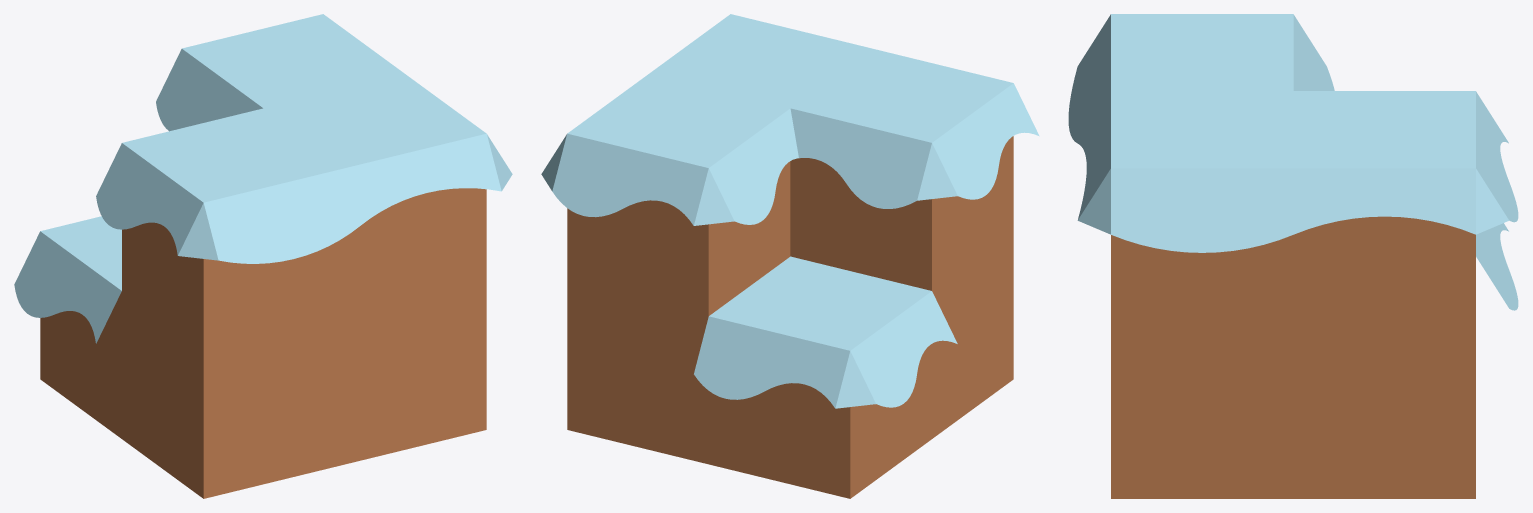
The model's file is blockSnowLevel.dae.
3 views of the same model, side by side, from view 1: azimuth 30°, elevation 25°; view 2: azimuth 150°, elevation 25°; view 3: azimuth 270°, elevation 25° (orthographic). The views are drawn at different scales.
Parts seen in each view (by area): view 1: blockSnowLevel; view 2: blockSnowLevel; view 3: blockSnowLevel.
Part boxes in pixels (left/top/right/bottom): blockSnowLevel: left=14, top=14, right=512, bottom=498; blockSnowLevel: left=541, top=14, right=1039, bottom=498; blockSnowLevel: left=1068, top=14, right=1518, bottom=498.
Bounding box in the file's own units: 1.23 × 1 × 1.23.
